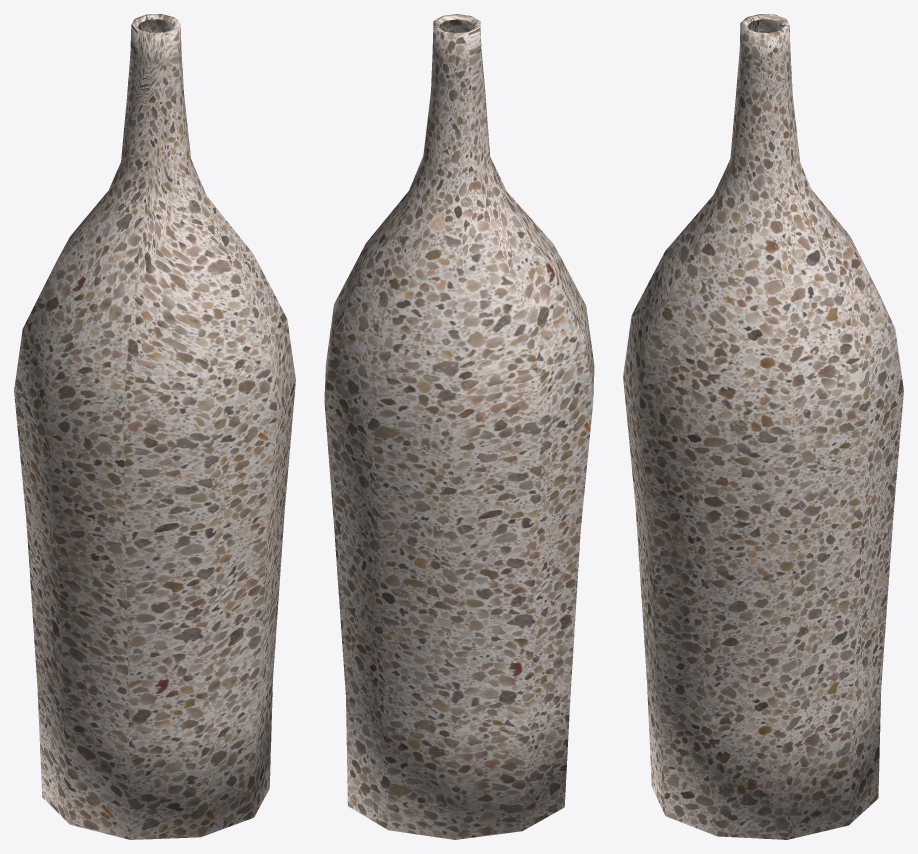
The model's file is Jar2.glb.
The picture shows the model from 3 angles, left to right: view 1: azimuth 30°, elevation 25°; view 2: azimuth 150°, elevation 25°; view 3: azimuth 270°, elevation 25°; orthographic projection.
Parts seen in each view (by area): view 1: JarroMaior.001; view 2: JarroMaior.001; view 3: JarroMaior.001.
Boxes of the visible parts, x1,y1,x2,y2 form: JarroMaior.001: (14,14,295,839); JarroMaior.001: (324,14,594,839); JarroMaior.001: (623,14,903,839).
Bounding box in the file's own units: 0.2105 × 0.6427 × 0.213.
Materials: 1 (1 with a texture image).
